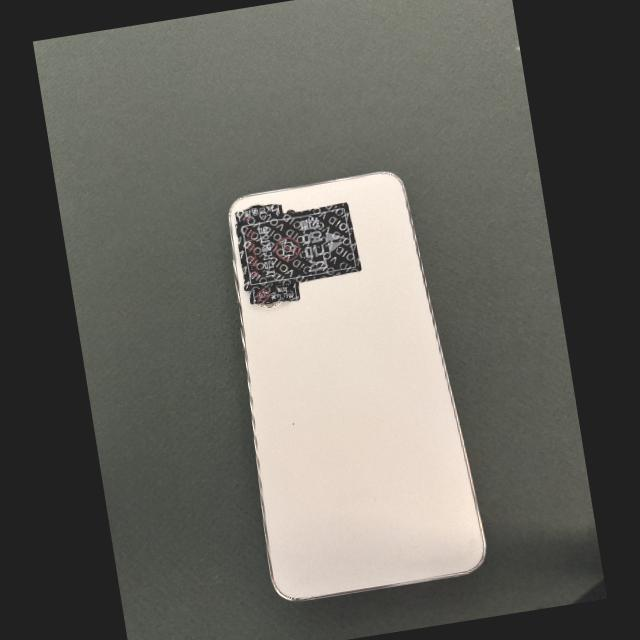lens: (245, 204, 265, 211)
phone: (229, 172, 485, 600)
sticker: (234, 203, 362, 291), (249, 283, 300, 305), (235, 204, 285, 223)
